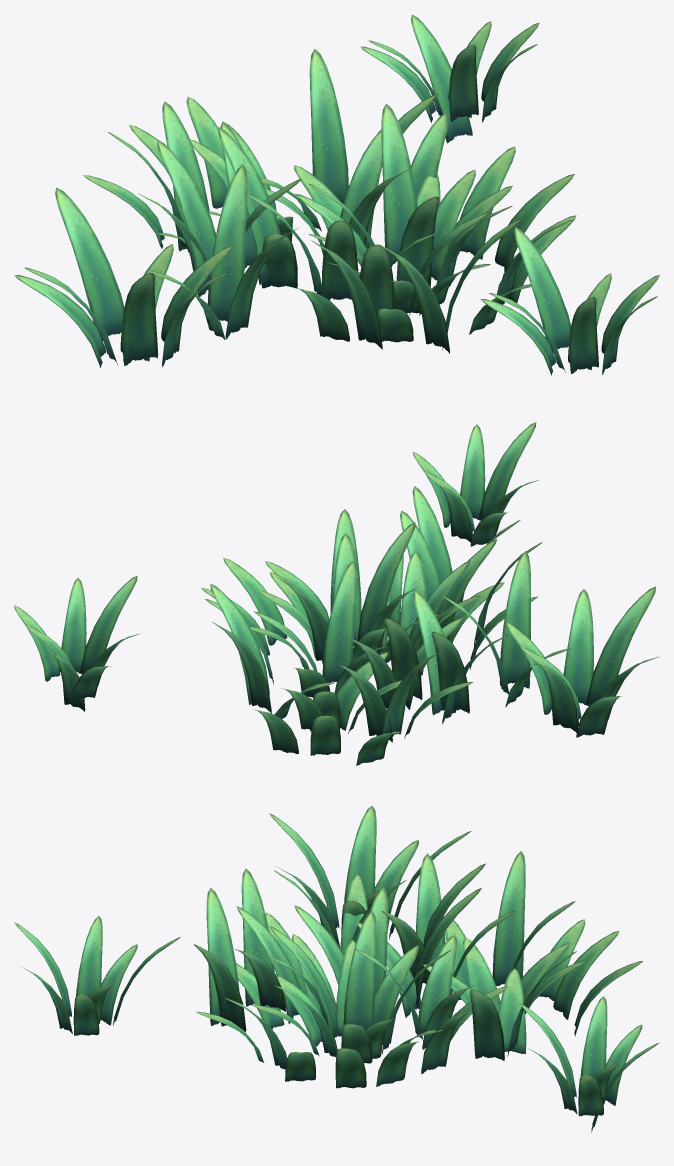
The model's file is herbe-groupement.fbx.
The picture shows the model from 3 angles, top to bottom: view 1: azimuth 30°, elevation 25°; view 2: azimuth 150°, elevation 25°; view 3: azimuth 270°, elevation 25°; orthographic projection. The views are drawn at different scales.
Visible parts, largest first — view 1: pPlane48, pPlane64, pPlane6, pPlane70, pPlane40, pPlane62, pPlane34, pPlane72, pPlane41, pPlane9, pPlane12, pPlane65 (+43 smaller); view 2: pPlane79, pPlane29, pPlane37, pPlane34, pPlane9, pPlane44, pPlane51, pPlane47, pPlane62, pPlane54, pPlane18, pPlane67 (+34 smaller); view 3: pPlane27, pPlane14, pPlane20, pPlane66, pPlane35, pPlane63, pPlane4, pPlane78, pPlane18, pPlane61, pPlane46, pPlane53 (+45 smaller).
Part boxes in pixels (box(x1,y1,x2,y2)): pPlane48: box(55, 187, 124, 340); pPlane64: box(309, 49, 348, 211); pPlane6: box(207, 164, 247, 323); pPlane70: box(381, 103, 417, 264); pPlane40: box(514, 227, 570, 353); pPlane62: box(157, 139, 215, 296); pPlane34: box(121, 273, 158, 366); pPlane72: box(218, 127, 280, 284); pPlane41: box(411, 14, 472, 143); pPlane9: box(396, 196, 439, 286); pPlane12: box(322, 220, 358, 299); pPlane65: box(459, 146, 515, 259); pPlane79: box(322, 560, 357, 682); pPlane29: box(499, 551, 530, 688); pPlane37: box(563, 589, 593, 706); pPlane34: box(586, 586, 655, 704); pPlane9: box(357, 522, 415, 641); pPlane44: box(59, 577, 86, 674); pPlane51: box(460, 424, 485, 520); pPlane47: box(80, 575, 137, 673); pPlane62: box(431, 631, 469, 713); pPlane54: box(479, 422, 536, 519); pPlane18: box(412, 486, 452, 581); pPlane67: box(413, 590, 458, 715); pPlane27: box(492, 851, 525, 985); pPlane14: box(343, 911, 376, 1029); pPlane20: box(206, 888, 239, 1026); pPlane66: box(469, 989, 504, 1060); pPlane35: box(344, 806, 376, 902); pPlane63: box(418, 935, 456, 1032); pPlane4: box(241, 868, 274, 1006); pPlane78: box(416, 853, 445, 966); pPlane18: box(194, 944, 246, 1032); pPlane61: box(498, 968, 526, 1053); pPlane46: box(580, 996, 607, 1076); pPlane53: box(76, 916, 102, 995).
Bounding box in the file's own units: 240 × 60.99 × 246.
